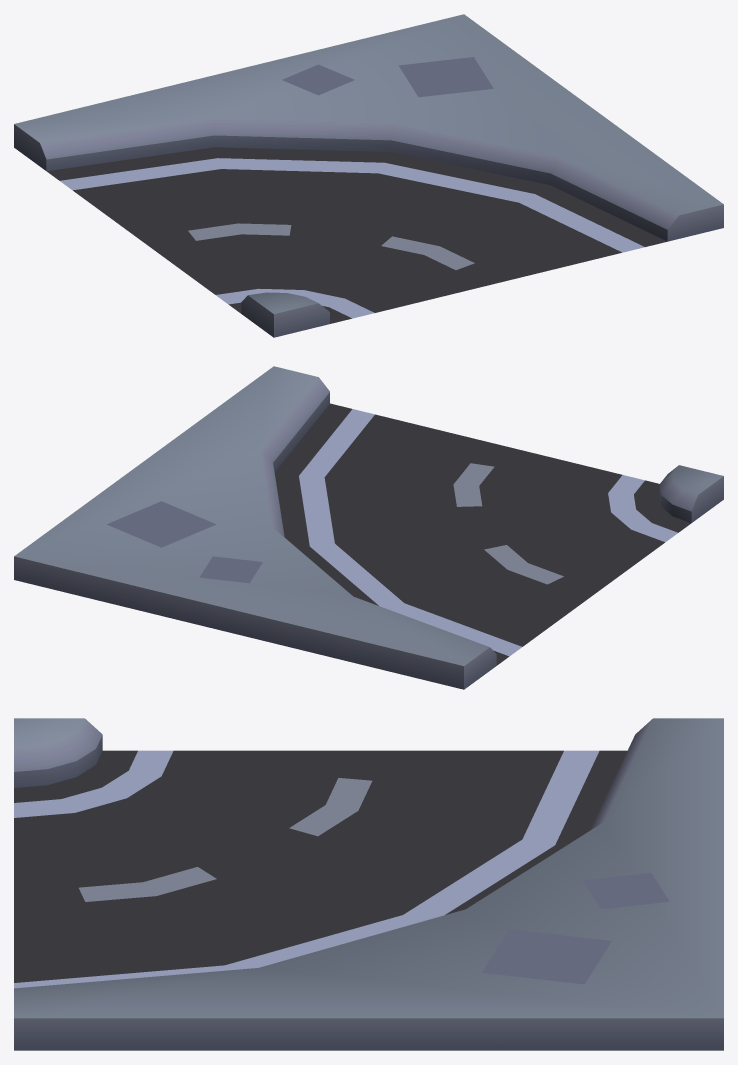
Rendered from road-corner.glb.
3 views of the same model, one above another, from view 1: azimuth 30°, elevation 25°; view 2: azimuth 150°, elevation 25°; view 3: azimuth 270°, elevation 25° (orthographic). The views are drawn at different scales.
Visible parts, largest first — view 1: road-corner; view 2: road-corner; view 3: road-corner.
Part boxes in pixels (<box>): road-corner: <box>14,14,723,337</box>; road-corner: <box>14,366,723,689</box>; road-corner: <box>14,718,723,1050</box>.
Bounding box in the file's own units: 1 × 0.0599 × 1.
Materials: 1 (1 with a texture image).
